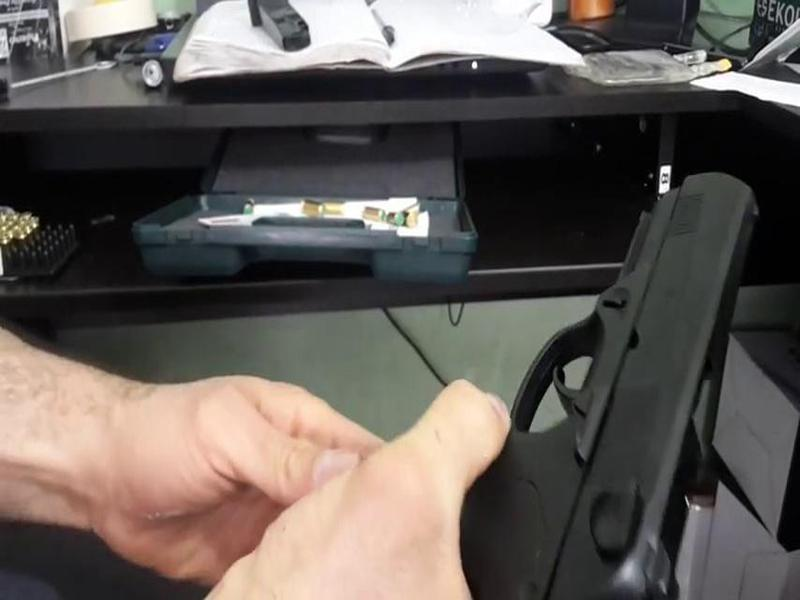Pistola: (397, 144, 774, 600)
